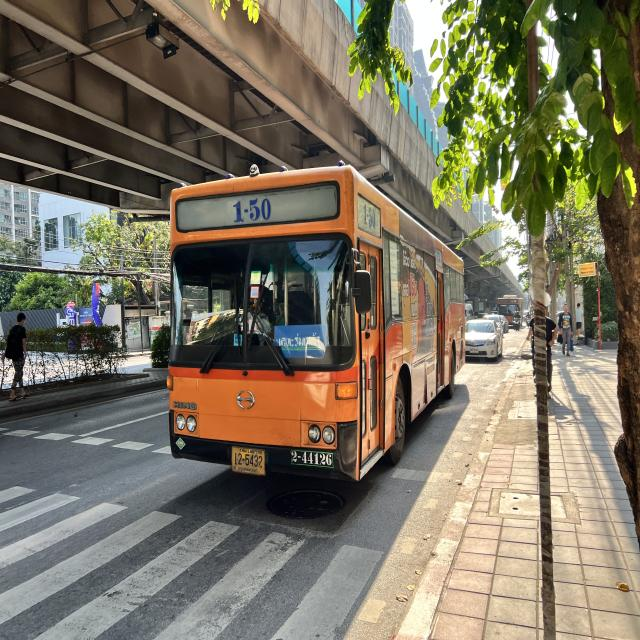BMTA-bus: (164, 167, 466, 512), (500, 295, 521, 327)
Bus-Line-Number: (228, 194, 276, 225)
Destination-Sign-Normal: (274, 325, 330, 356)
